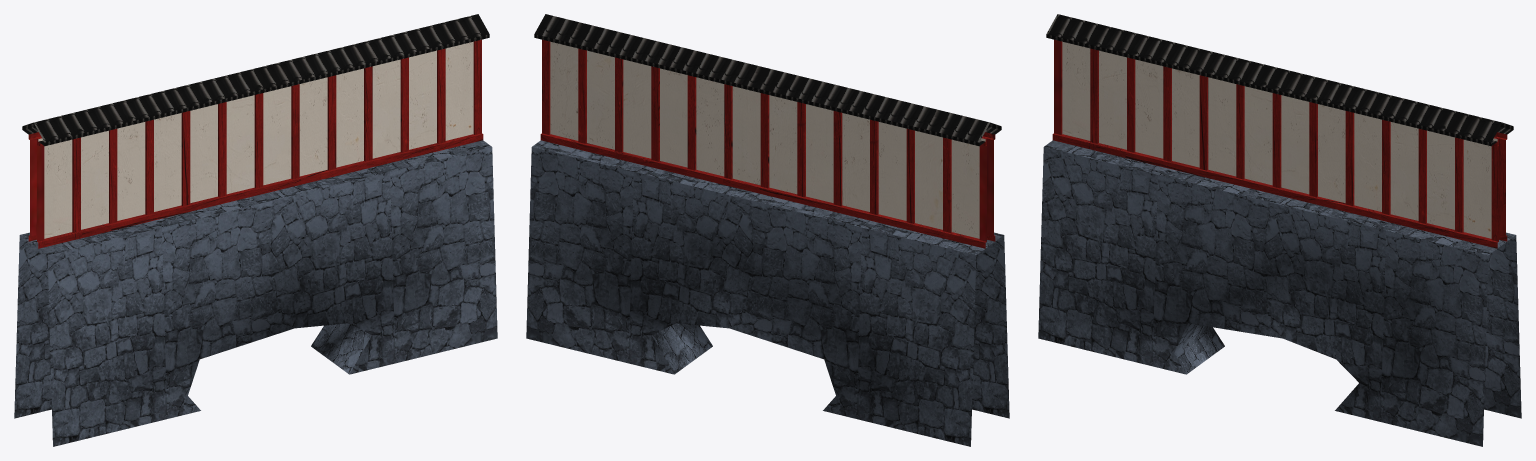
The model's file is WallHighSlide.fbx.
The picture shows the model from 3 angles, left to right: view 1: azimuth 30°, elevation 25°; view 2: azimuth 150°, elevation 25°; view 3: azimuth 330°, elevation 25°; orthographic projection.
Parts seen in each view (by area): view 1: Cube_019, Cube_037, Cube_039, Cube_038; view 2: Cube_019, Cube_037, Cube_039, Cube_038; view 3: Cube_019, Cube_037, Cube_039, Cube_038.
Part boxes in pixels (x1=…): Cube_019: x1=14, y1=140, x2=497, y2=446; Cube_037: x1=38, y1=41, x2=473, y2=238; Cube_039: x1=28, y1=39, x2=483, y2=248; Cube_038: x1=22, y1=14, x2=489, y2=146; Cube_019: x1=526, y1=140, x2=1009, y2=446; Cube_037: x1=550, y1=41, x2=985, y2=238; Cube_039: x1=540, y1=39, x2=995, y2=248; Cube_038: x1=534, y1=14, x2=1001, y2=146; Cube_019: x1=1038, y1=140, x2=1521, y2=446; Cube_037: x1=1062, y1=41, x2=1497, y2=238; Cube_039: x1=1052, y1=39, x2=1507, y2=248; Cube_038: x1=1046, y1=14, x2=1513, y2=146.
Size of the model in its own units: 1148 by 765 by 173.
